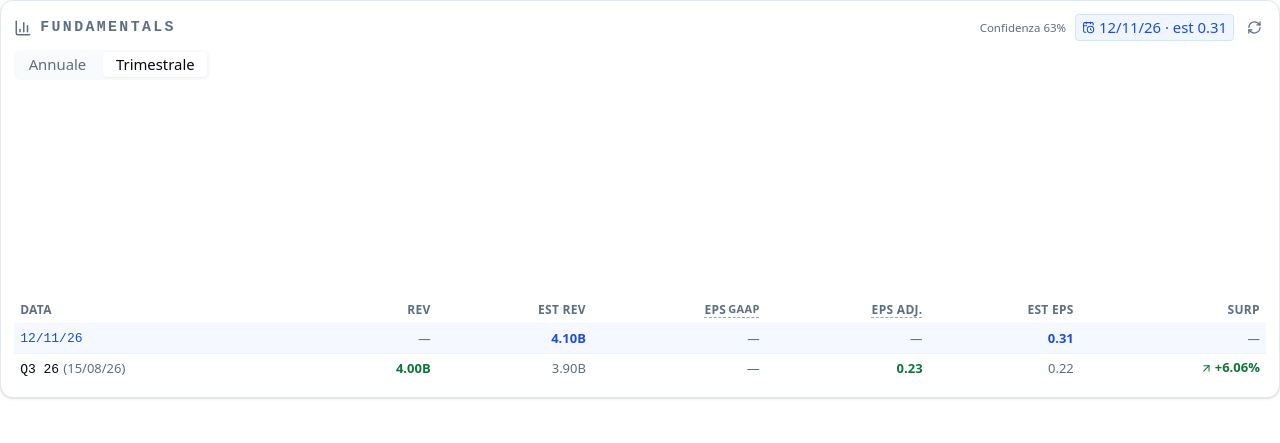
Test: FundamentalsCard — la valuta dei rendiconti › valuta dei rendiconti ignota: le cifre di bilancio restano NUDE, mai dollari
The image size is (1280, 443).
Click the button "Annuale" at point(57, 65), box top-left (16, 52), bottom-right (99, 77)
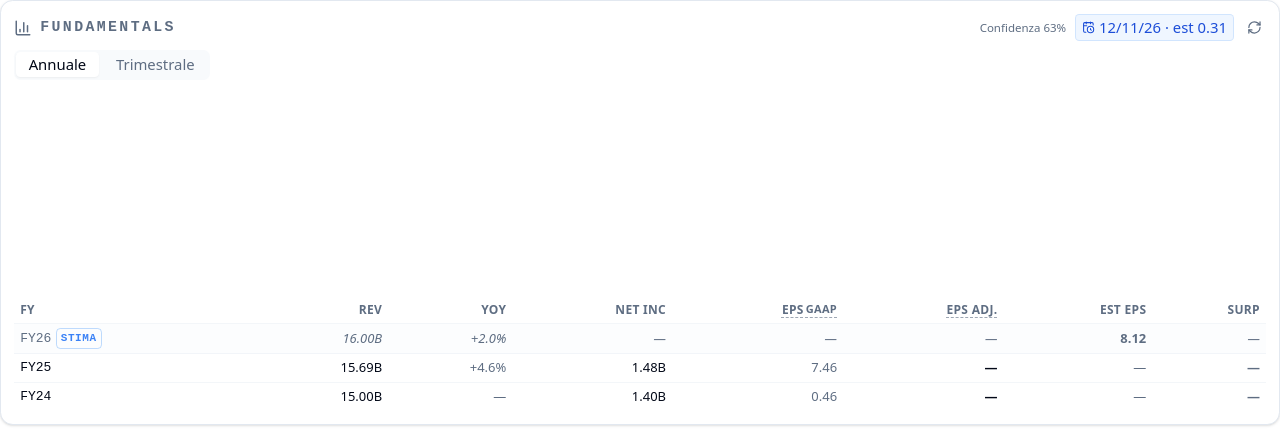
Expected: the cell "15.69B" is shown, top-left (252, 354), bottom-right (388, 382)
Expected: the cell "1.48B" is shown, top-left (513, 354), bottom-right (672, 382)
